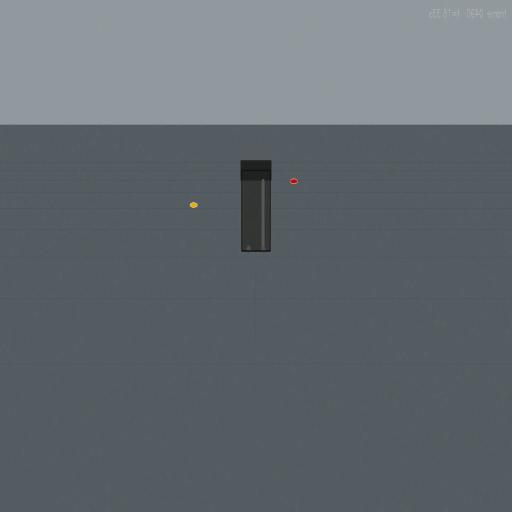bin: (240, 160, 272, 252)
